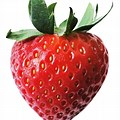Fresa: (8, 22, 112, 120)
